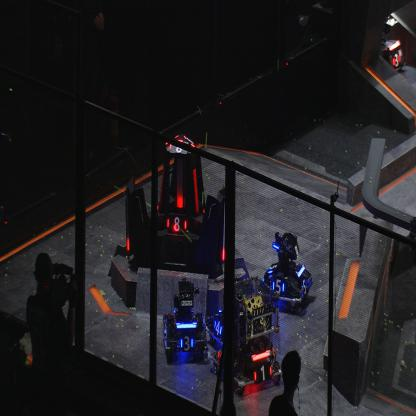car: (204, 274, 278, 396), (257, 226, 314, 310), (162, 276, 209, 362), (362, 23, 405, 78), (205, 306, 236, 348)
